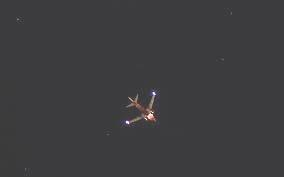Plane: (94, 75, 190, 136)
